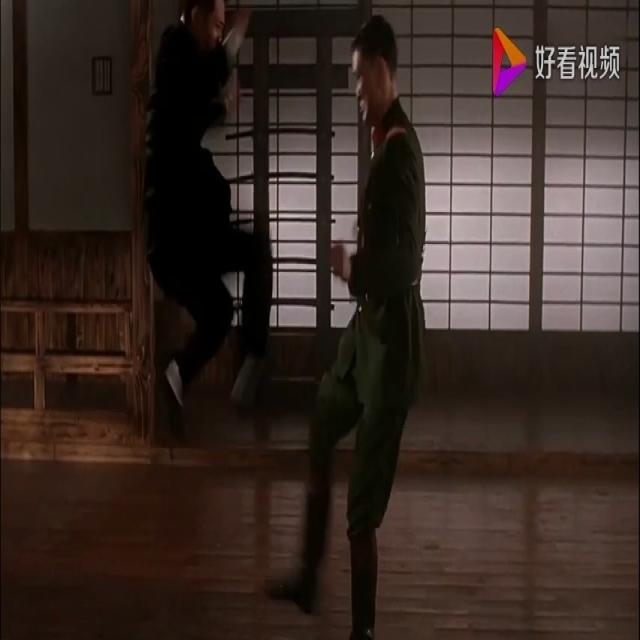fight: (136, 4, 436, 639)
